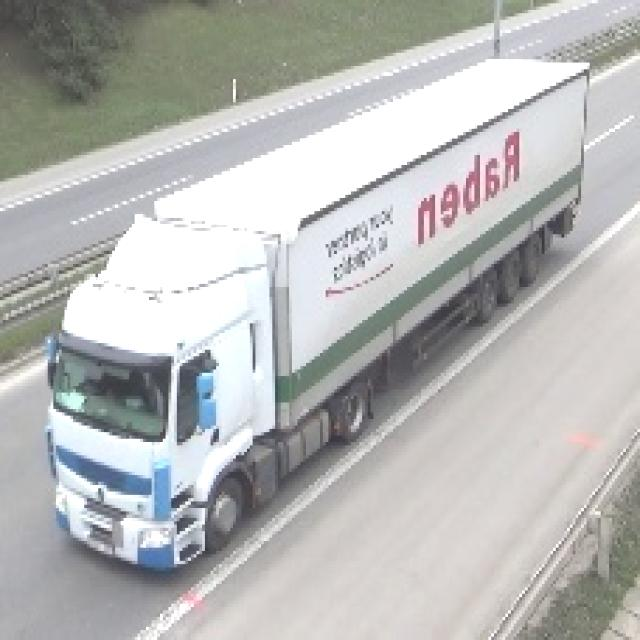TRUCK: (35, 57, 588, 575)
